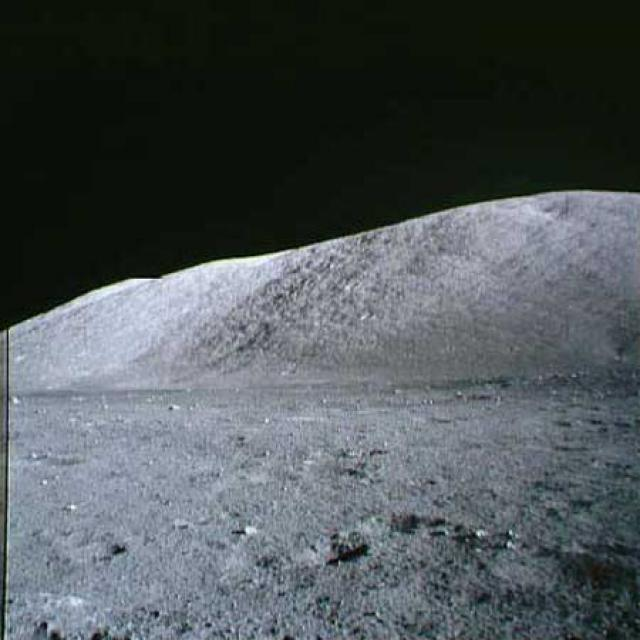crater: (242, 530, 366, 566), (362, 508, 427, 537)
